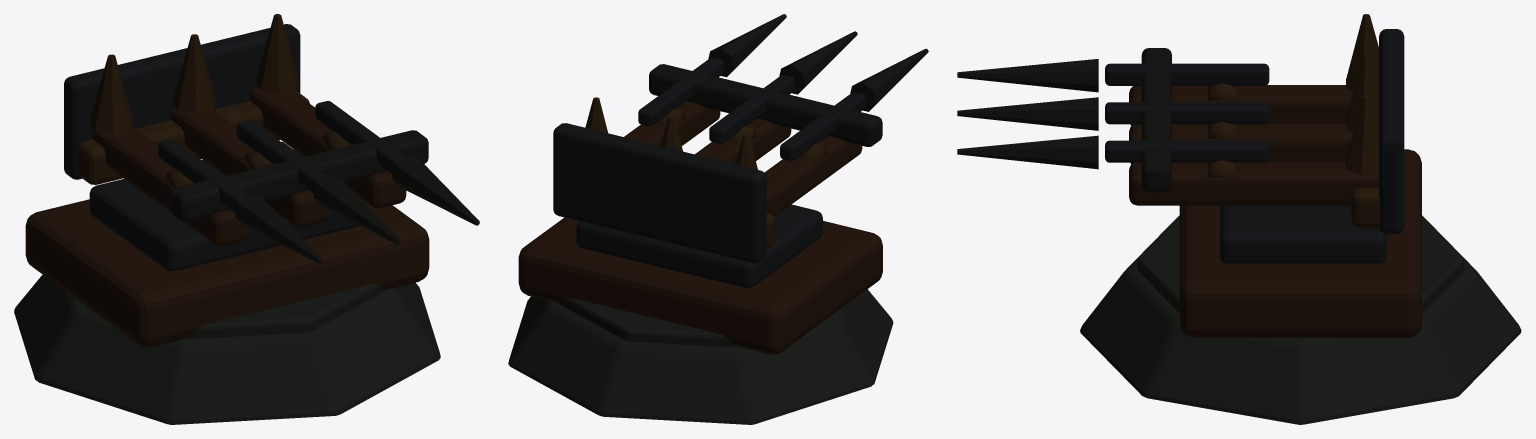
Rendered from TowerKing1_pose.obj.
The picture shows the model from 3 angles, left to right: view 1: azimuth 30°, elevation 25°; view 2: azimuth 150°, elevation 25°; view 3: azimuth 270°, elevation 25°; orthographic projection. The views are drawn at different scales.
Visible parts, largest first — view 1: polished_stone_socket_lower_course, royal_oak_deck, iron_royal_mantle, iron_royal_turntable, royal_bow_stock, royal_bow_stock.002, royal_bow_stock.001, polished_stone_socket_upper_course, bronze_crown_rail, royal_bow_limb, royal_bow_limb.002, royal_bolt.002 (+9 smaller); view 2: polished_stone_socket_lower_course, royal_oak_deck, iron_royal_mantle, iron_royal_turntable, polished_stone_socket_upper_course, royal_bow_stock, royal_bow_limb, royal_iron_guide, royal_iron_guide.002, royal_iron_guide.001, royal_bow_limb.002, royal_bow_limb.001 (+8 smaller); view 3: polished_stone_socket_lower_course, royal_oak_deck, iron_royal_turntable, royal_bow_stock.002, iron_royal_mantle, polished_stone_socket_upper_course, royal_bow_stock, royal_bow_stock.001, royal_iron_guide, royal_iron_guide.002, royal_iron_guide.001, royal_bolt.001 (+9 smaller).
Part boxes in pixels (box(x1,y1,x2,y2)): polished_stone_socket_lower_course: box(14, 274, 440, 424); royal_oak_deck: box(25, 149, 429, 347); iron_royal_mantle: box(64, 24, 300, 179); iron_royal_turntable: box(89, 141, 359, 271); royal_bow_stock: box(92, 127, 248, 246); royal_bow_stock.002: box(249, 87, 406, 208); royal_bow_stock.001: box(171, 108, 327, 227); polished_stone_socket_upper_course: box(85, 284, 385, 338); bronze_crown_rail: box(77, 90, 309, 184); royal_bow_limb: box(170, 168, 267, 222); royal_bow_limb.002: box(333, 130, 428, 183); royal_bolt.002: box(392, 155, 479, 225); polished_stone_socket_lower_course: box(508, 289, 893, 424); royal_oak_deck: box(518, 217, 882, 354); iron_royal_mantle: box(553, 123, 766, 263); iron_royal_turntable: box(576, 204, 822, 287); polished_stone_socket_upper_course: box(558, 298, 828, 347); royal_bow_stock: box(764, 135, 862, 216); royal_bow_limb: box(794, 99, 882, 146); royal_iron_guide: box(780, 92, 865, 161); royal_iron_guide.002: box(638, 57, 723, 126); royal_iron_guide.001: box(709, 75, 794, 143); royal_bow_limb.002: box(649, 64, 734, 112); royal_bow_limb.001: box(723, 81, 805, 129); polished_stone_socket_lower_course: box(1080, 225, 1521, 424); royal_oak_deck: box(1179, 149, 1421, 337); iron_royal_turntable: box(1220, 205, 1386, 263); royal_bow_stock.002: box(1129, 162, 1378, 205); iron_royal_mantle: box(1379, 29, 1404, 234); polished_stone_socket_upper_course: box(1137, 215, 1464, 337); royal_bow_stock: box(1129, 85, 1353, 125); royal_bow_stock.001: box(1129, 123, 1353, 164); royal_iron_guide: box(1105, 63, 1269, 85); royal_iron_guide.002: box(1105, 140, 1269, 162); royal_iron_guide.001: box(1105, 102, 1269, 124); royal_bolt.001: box(957, 97, 1098, 130).
Size of the model in its own units: 1.75 by 1.21 by 2.23.
